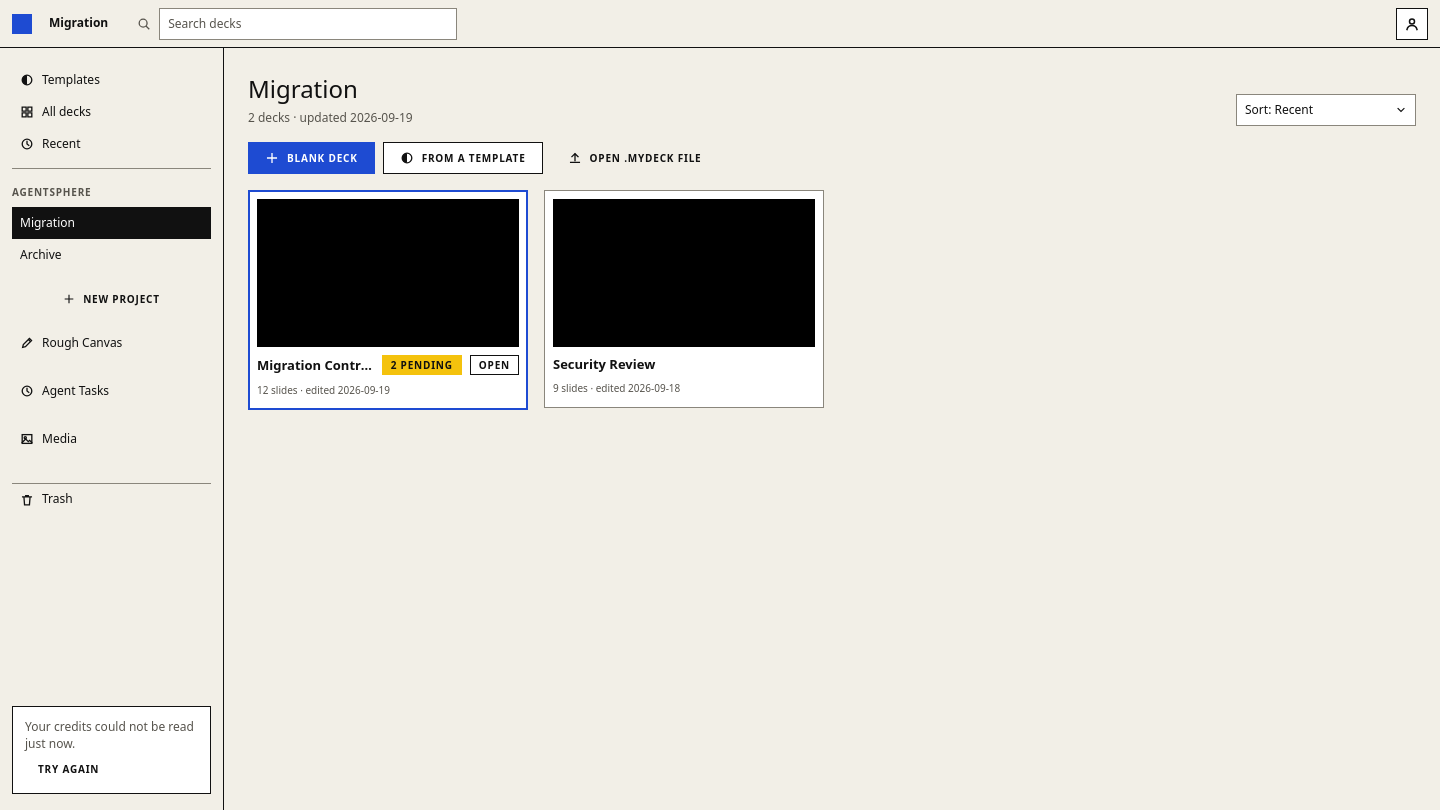
Scenario: DeckList › shows every deck across projects, newest first, naming each one's project
Click the button with test id "view-all": (112,112) [12, 96, 211, 128]
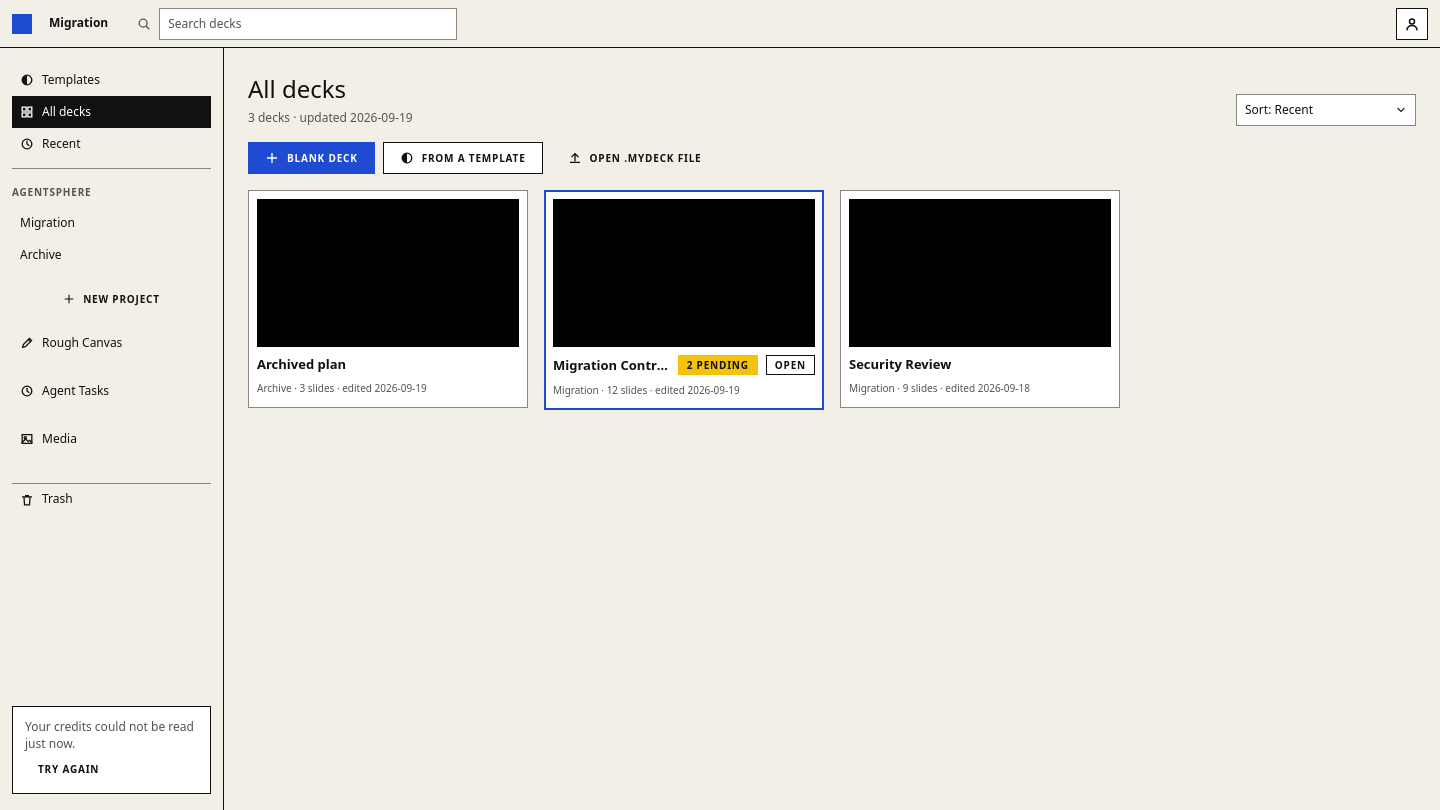
Check: the number of elements with test id "deck-card" is 3, box [248, 190, 528, 408]; [544, 190, 824, 410]; [840, 190, 1120, 408]
Check: the text "Archive · 3 slides · edited 2026-09-19" is shown, box [257, 381, 427, 395]
Check: the heading "All decks" is shown, box [248, 72, 346, 105]
